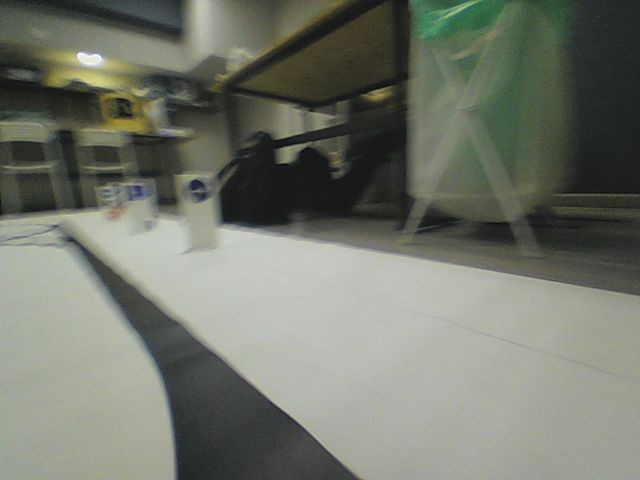Right: (184, 179, 209, 204)
